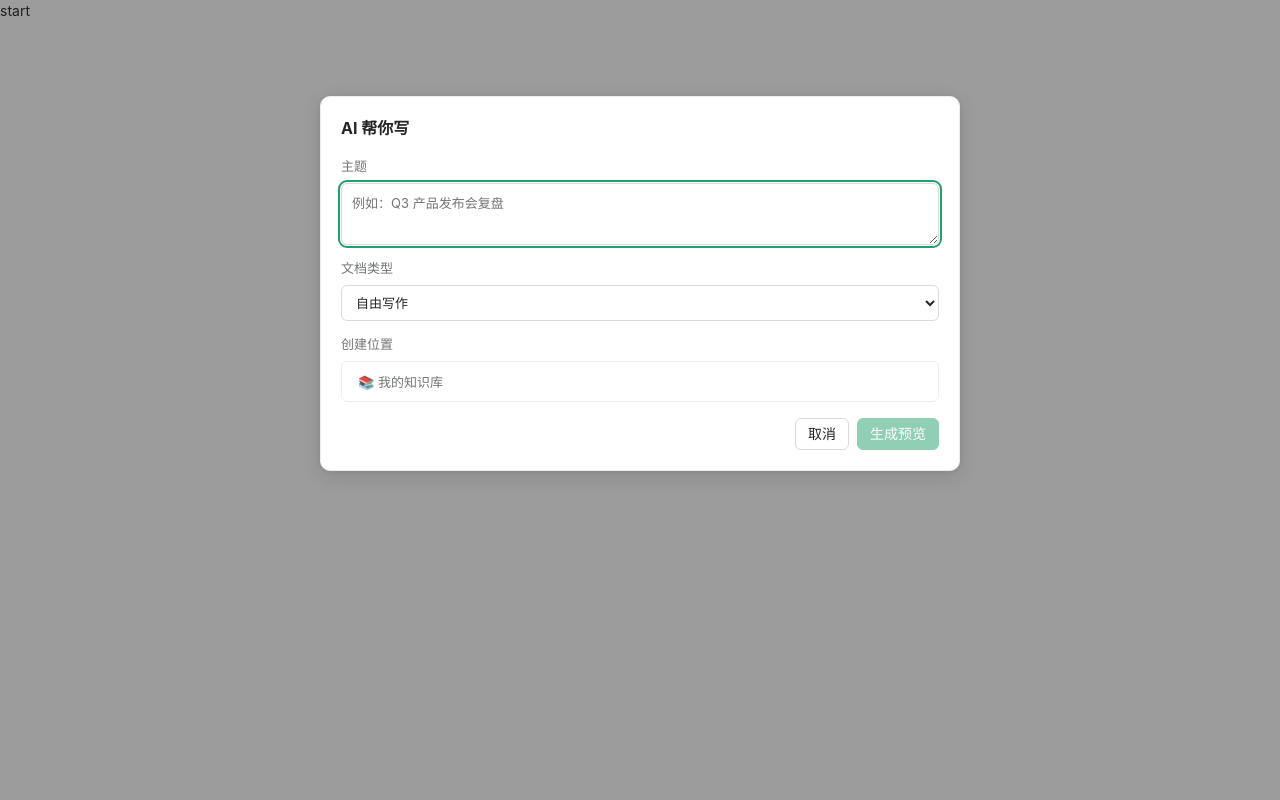
Scenario: AIDraftModal › 生成预览后确认才创建文档，正文经白名单解析
The image size is (1280, 800).
Step 1. Type "Q3 复盘" into the text box named "文档主题" → coordinates (640, 214), box [341, 183, 939, 245]
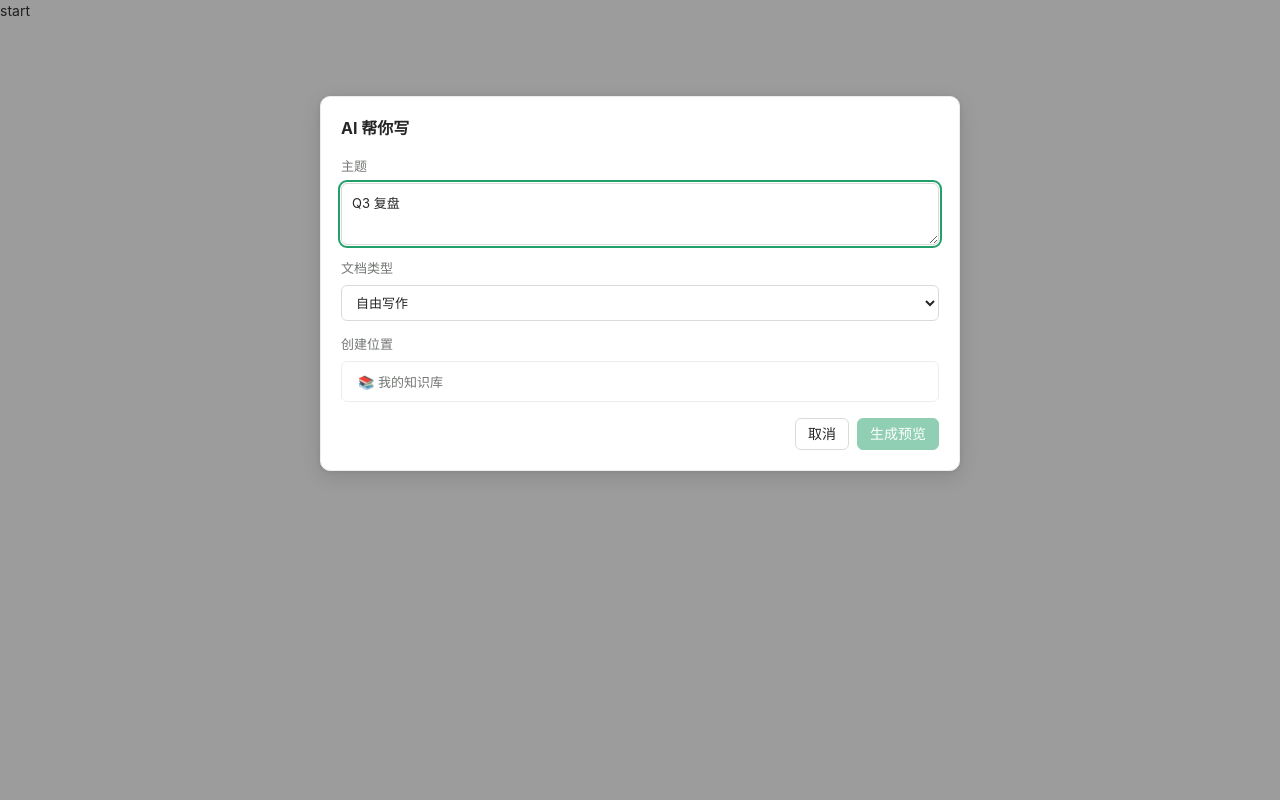
Step 2. Click the menu item "📚 我的知识库" → coordinates (400, 382), box [346, 366, 934, 397]
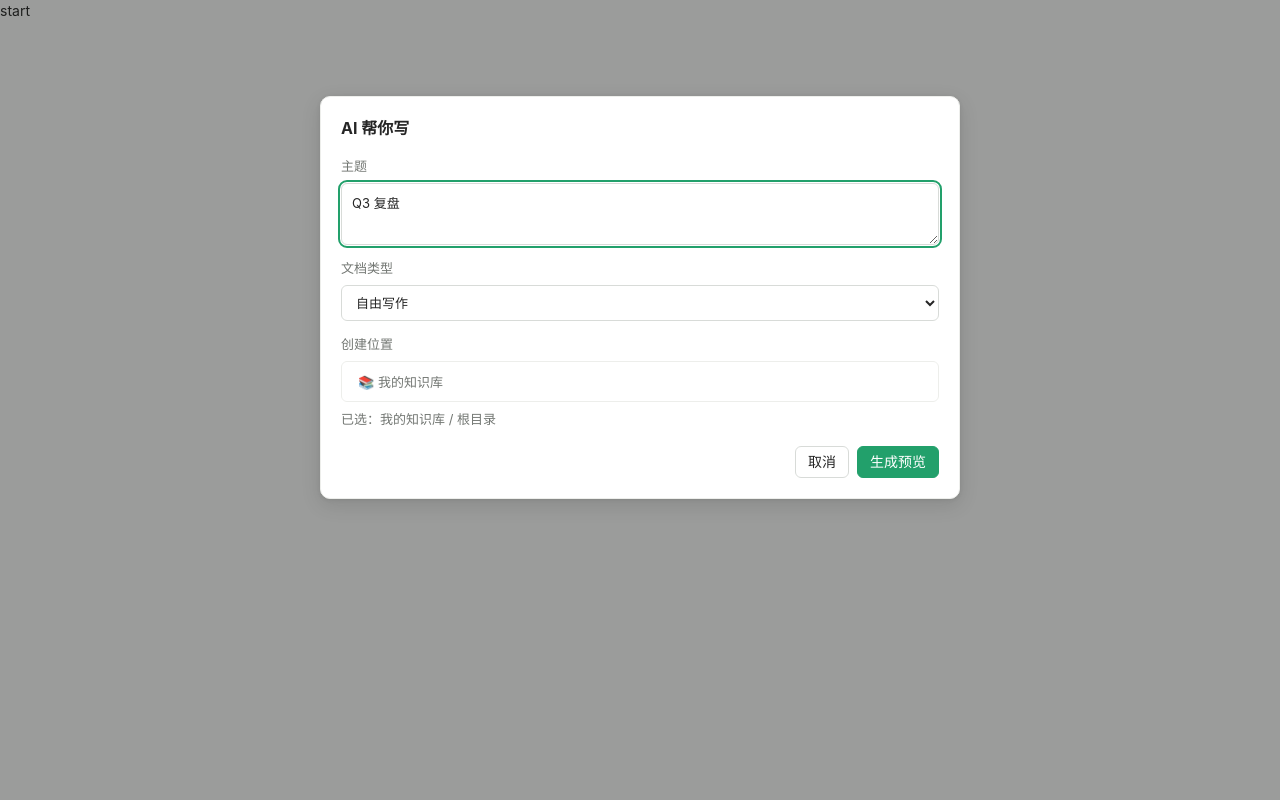
Step 3. Click the button "生成预览" → coordinates (898, 462), box [857, 446, 939, 478]
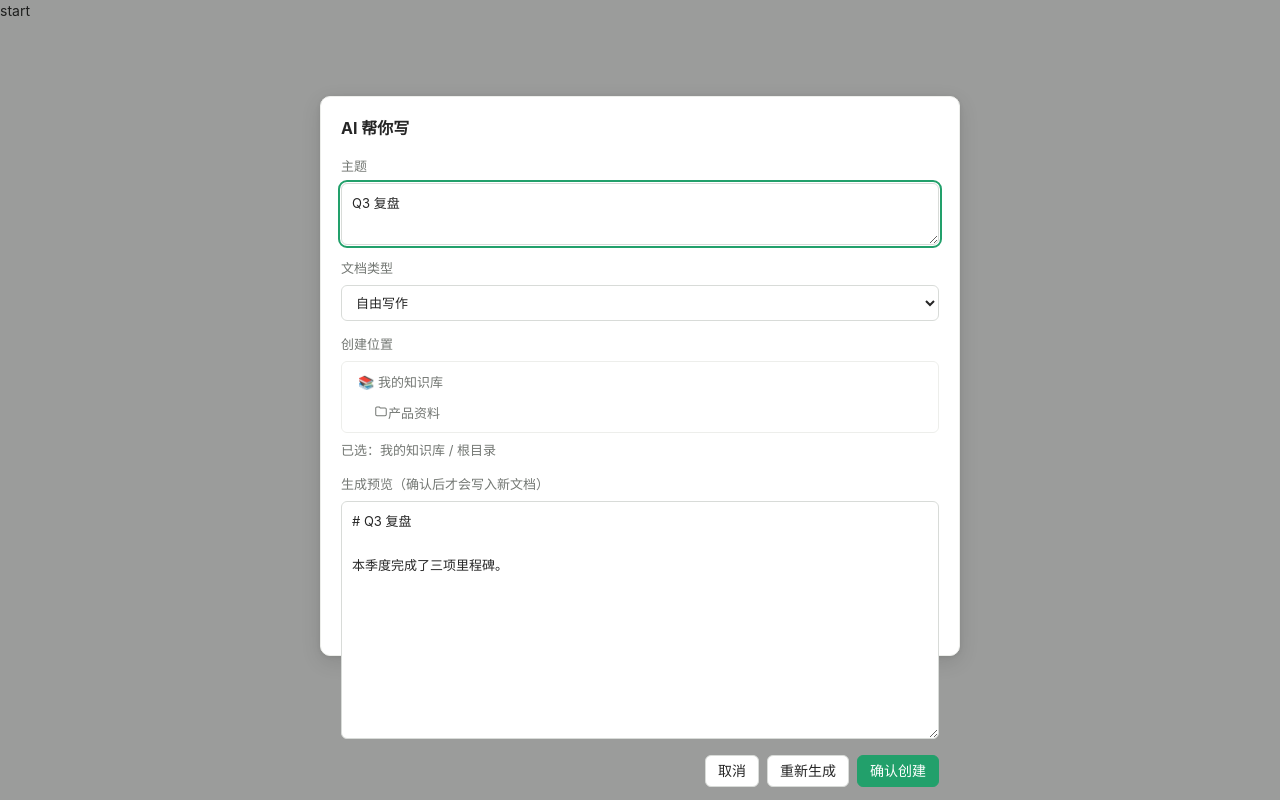
Step 4. Click the button "确认创建" → coordinates (898, 771), box [857, 755, 939, 787]
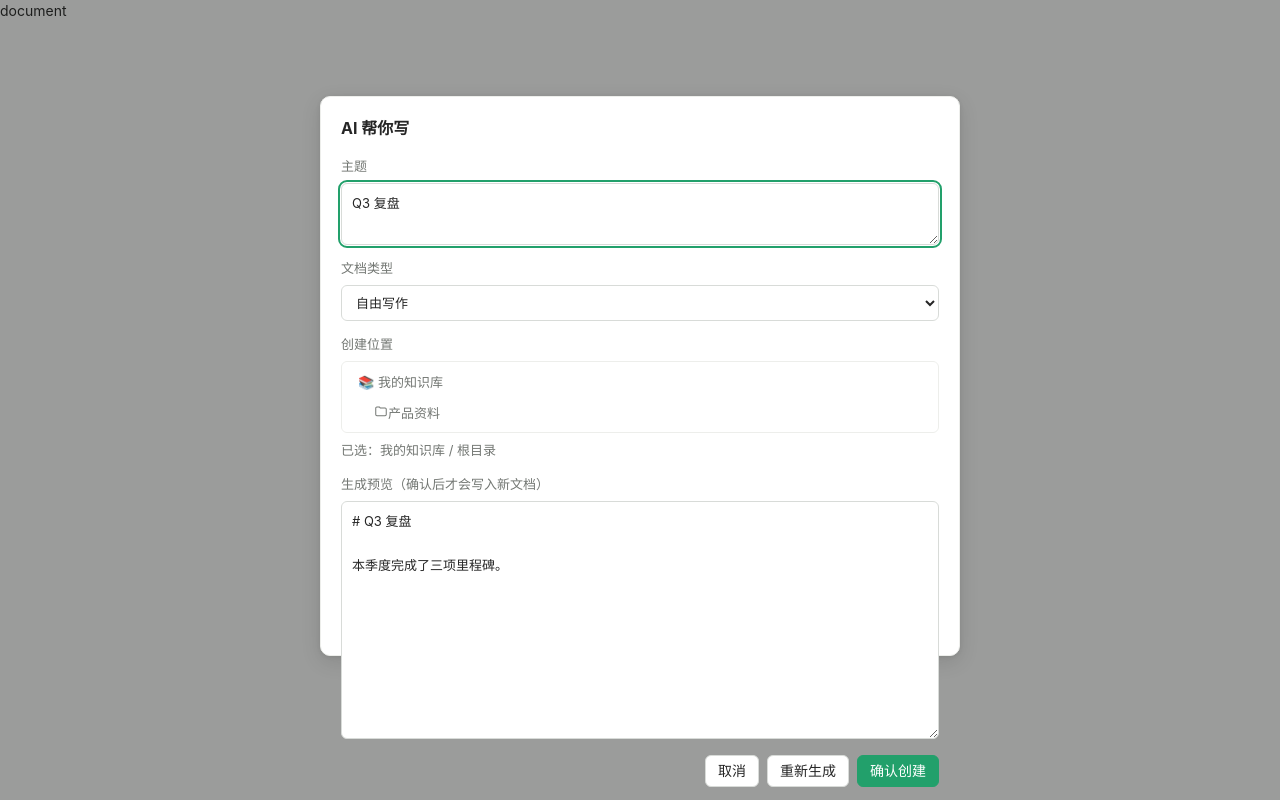
Check: the text with test id "view" reads "document", box [0, 2, 66, 19]
